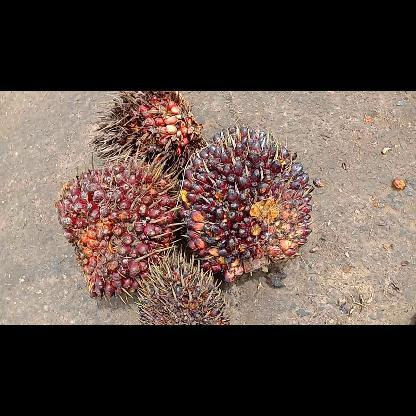Kurang masak: (178, 123, 314, 283)
TBS abnormal: (134, 250, 230, 324)
TBS masak: (53, 159, 178, 299)
Terlalu masak: (91, 91, 207, 177)
